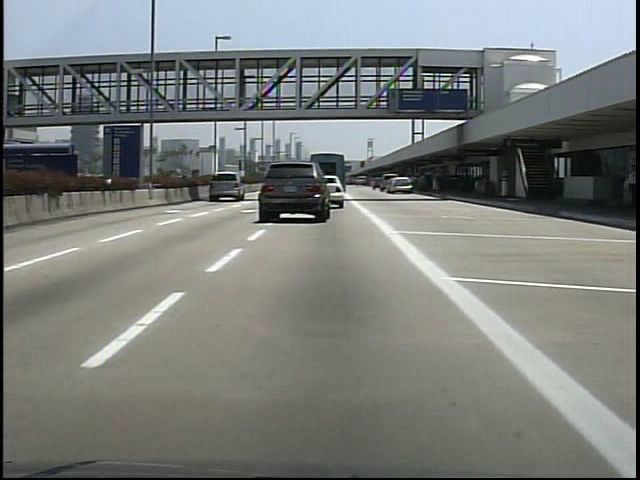person: (618, 163, 639, 211)
